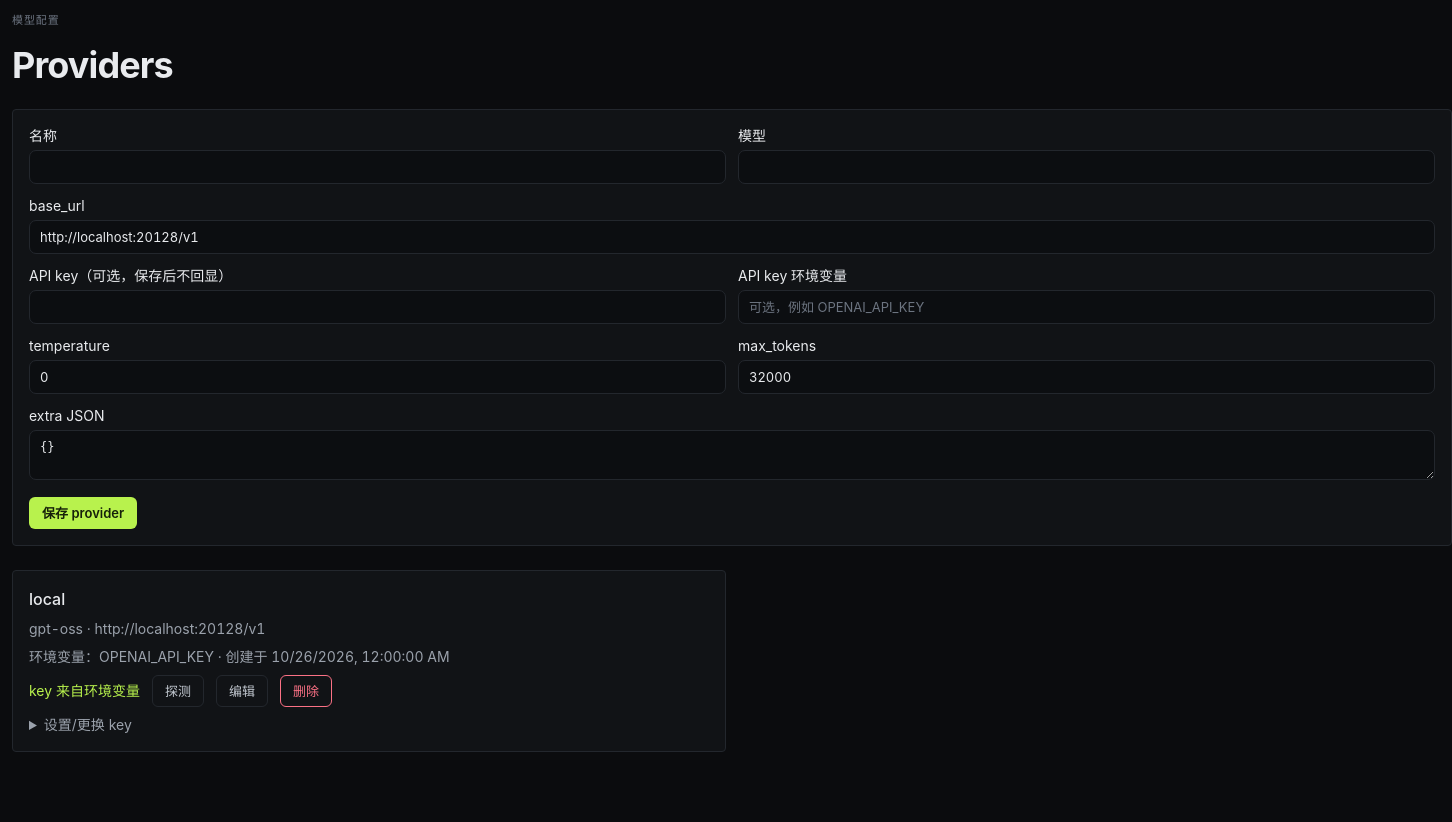
Test case: ProvidersView edit & delete › 取消二次确认回到普通态
Click the button with test id "provider-delete" at (306, 691), box x1=280 y1=675 x2=332 y2=707
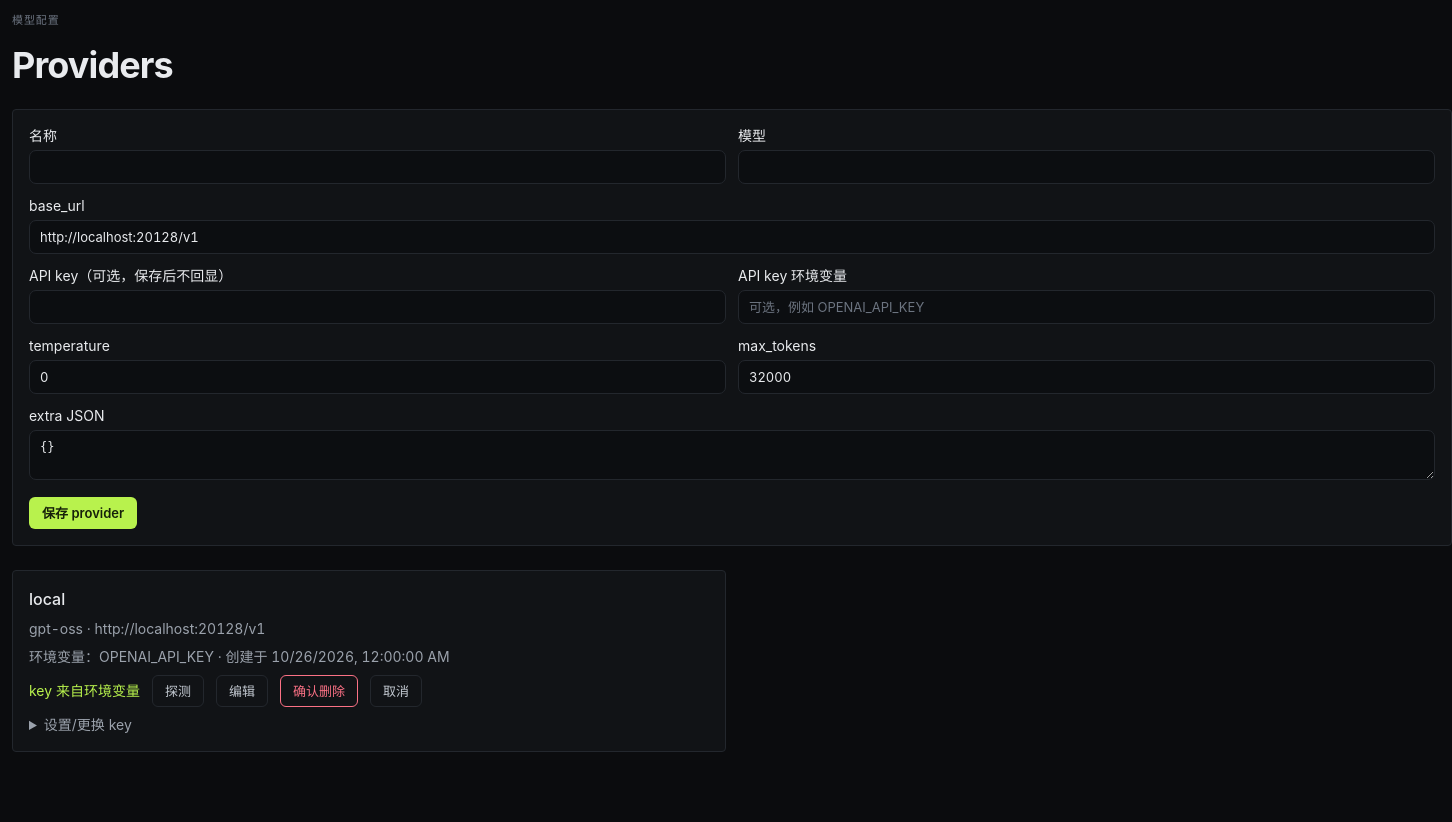
Click the button "取消" at (396, 691), box x1=370 y1=675 x2=422 y2=707
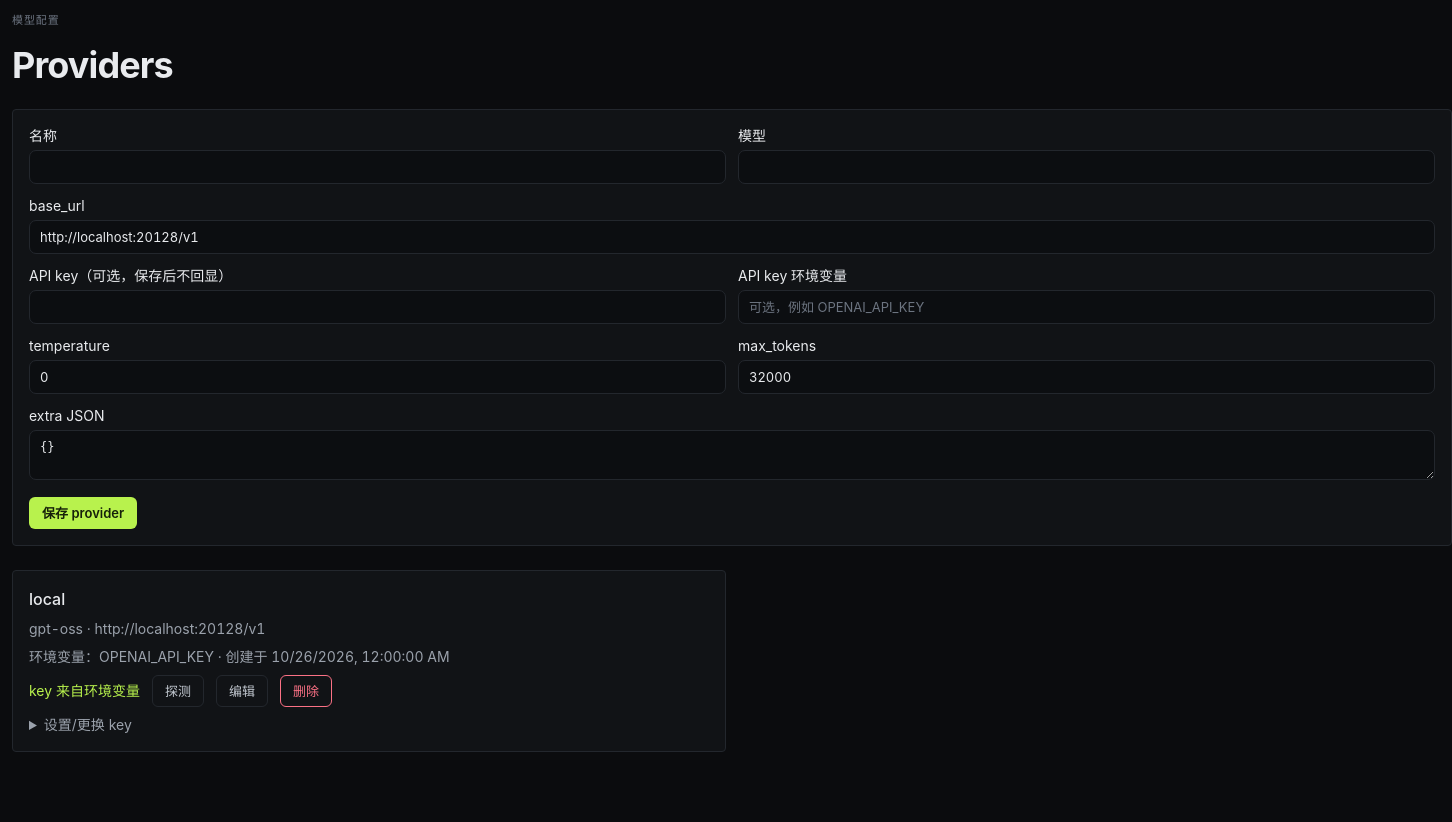
Now the button with test id "provider-delete-confirm" is gone
